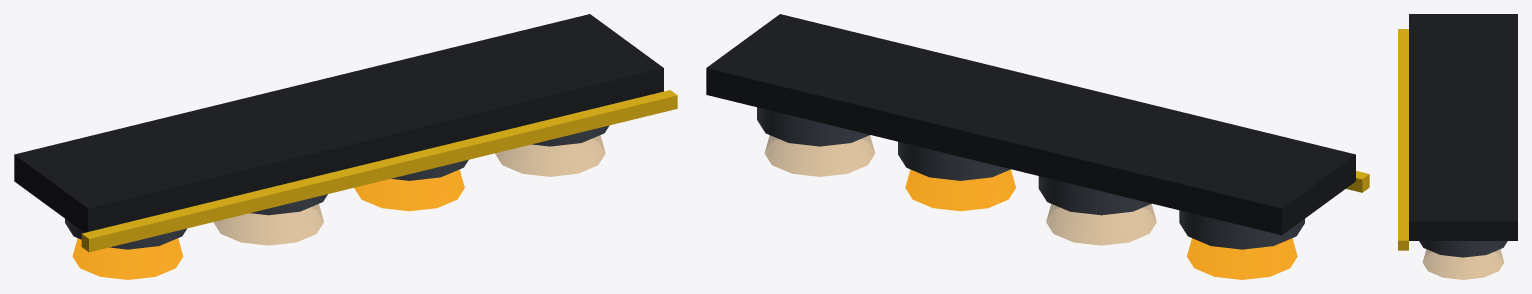
The model's file is beacon_yellow_alert_bar.glb.
The picture shows the model from 3 angles, left to right: view 1: azimuth 30°, elevation 25°; view 2: azimuth 150°, elevation 25°; view 3: azimuth 270°, elevation 25°; orthographic projection. The views are drawn at different scales.
Visible parts, largest first — view 1: beacon_yellow_alert_bar; view 2: beacon_yellow_alert_bar; view 3: beacon_yellow_alert_bar.
Boxes of the visible parts, bbox=[...] form: beacon_yellow_alert_bar: bbox=[14, 14, 677, 279]; beacon_yellow_alert_bar: bbox=[706, 14, 1369, 279]; beacon_yellow_alert_bar: bbox=[1398, 14, 1517, 279].
Bounding box in the file's own units: 0.92 × 0.14 × 0.22.
